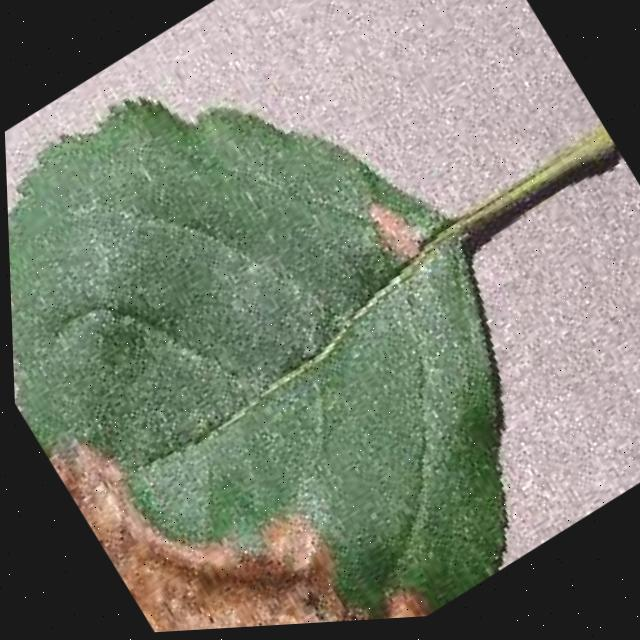black_rot: (26, 284, 440, 639), (343, 173, 445, 300)
